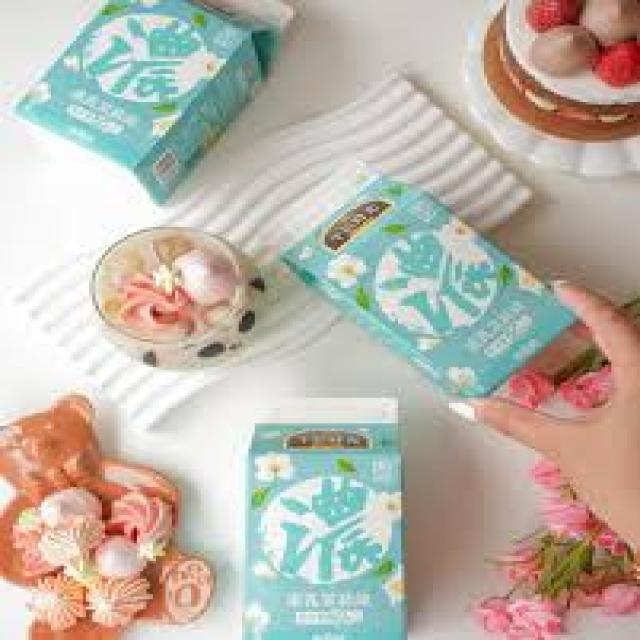Known_MilkGreenTea: (302, 165, 576, 378), (33, 0, 268, 196), (238, 400, 408, 640)
